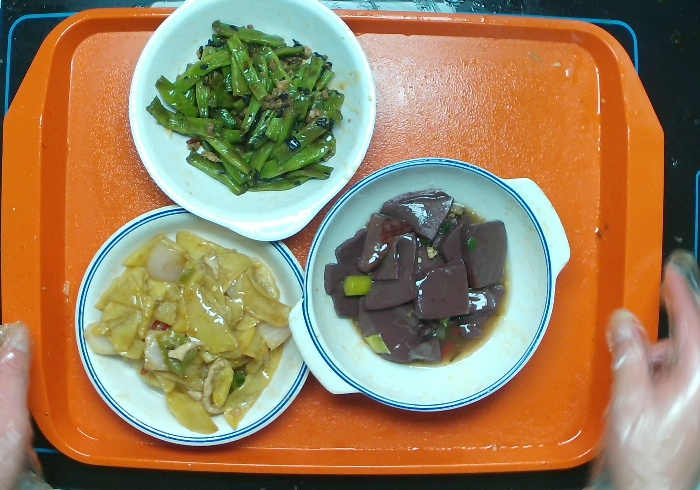HZYJPL-Dai_Er_Bai_Yuan_Wan: (126, 1, 379, 243)
HZYJPL-Lan_Bian_Dai_Er_Wan: (286, 155, 573, 415)
HZYJPL-Lan_Bian_Yuan_Die: (72, 202, 314, 451)
